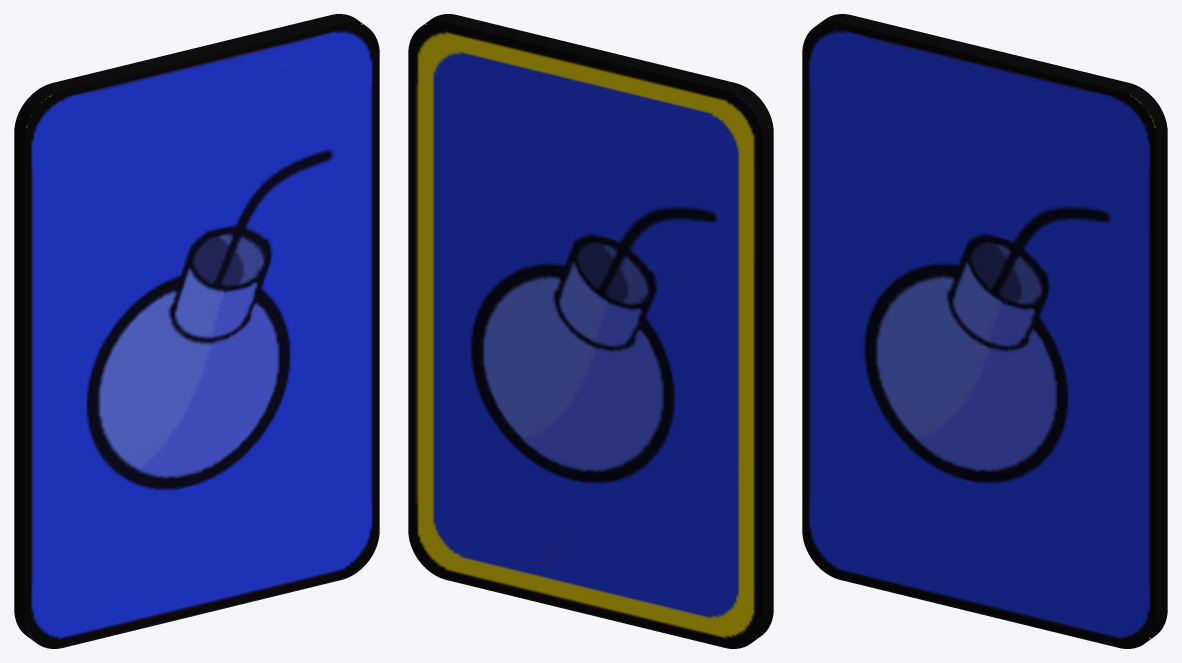
File: card.fbx
3 views of the same model, side by side, from view 1: azimuth 30°, elevation 25°; view 2: azimuth 150°, elevation 25°; view 3: azimuth 330°, elevation 25° (orthographic).
Parts seen in each view (by area): view 1: Cube.001; view 2: Cube.001; view 3: Cube.001.
Part boxes in pixels (left/top/right/bottom): Cube.001: left=14, top=14, right=379, bottom=648; Cube.001: left=408, top=14, right=773, bottom=648; Cube.001: left=802, top=14, right=1167, bottom=648.
Size of the model in its own units: 320 by 480 by 16.
